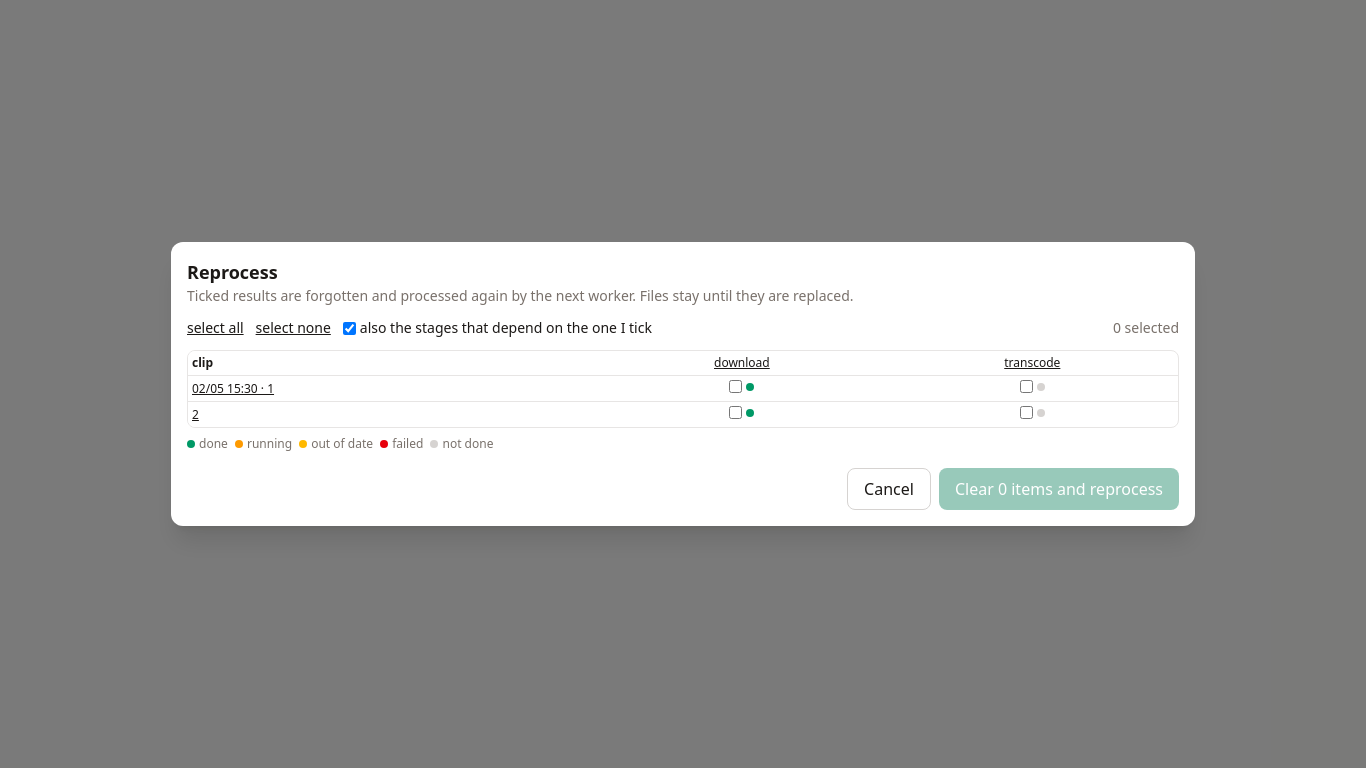
RedoDialog › toggles a clip for all stages when clicking clip row header
It reformats "20230502153045_1" to "02/05 15:30 · 1"
Click the button "02/05 15:30 · 1": (233, 388) [192, 380, 274, 396]
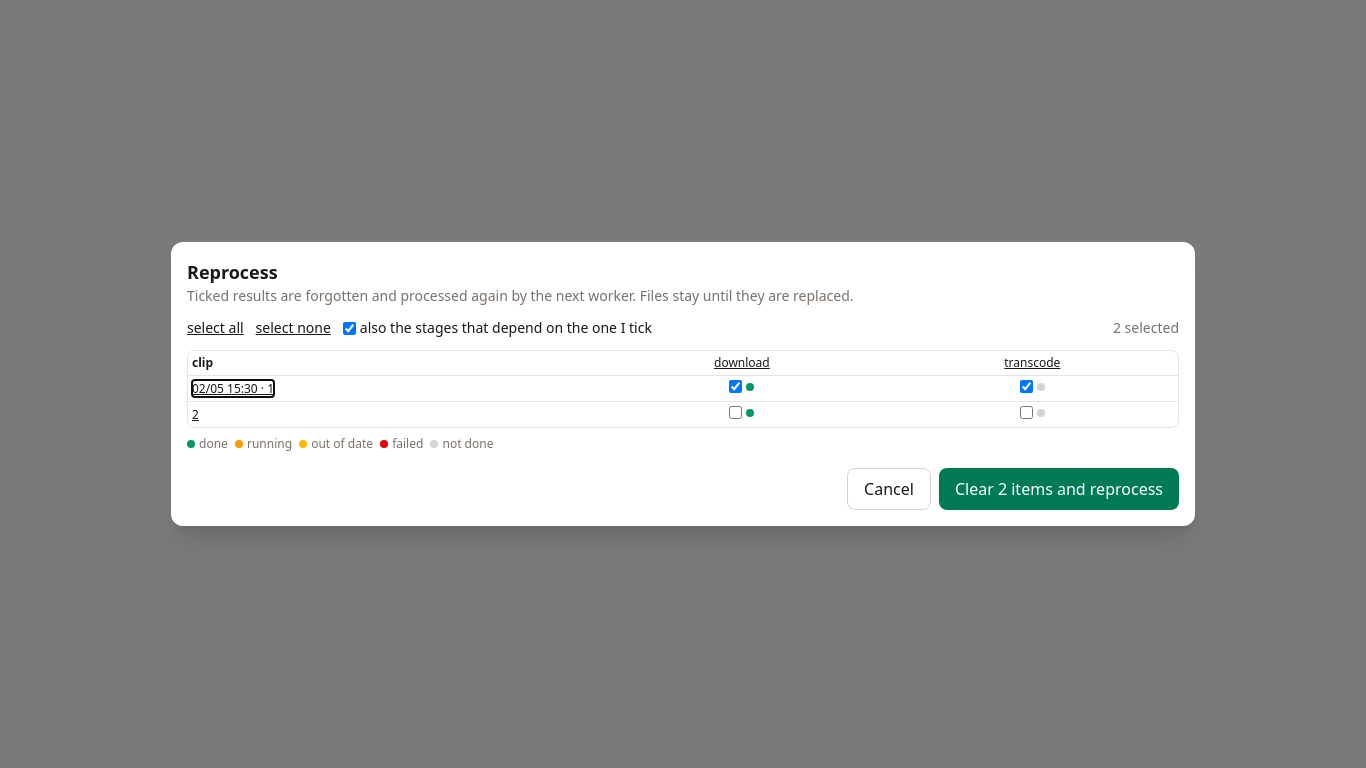
Check: the text "2 selected" is shown, box [1113, 318, 1179, 338]
